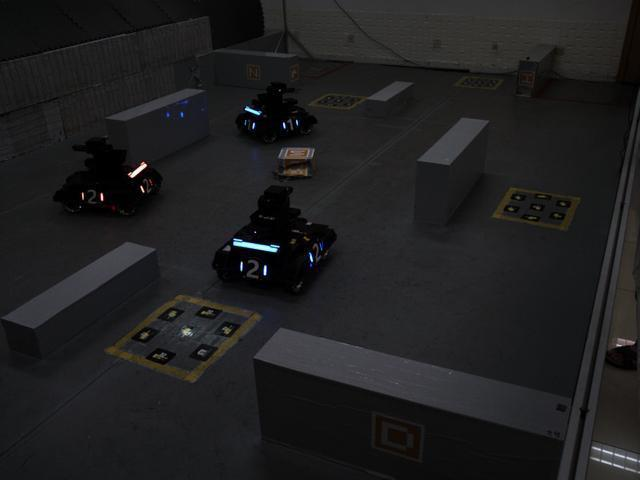armor: (228, 256, 271, 285), (299, 238, 326, 270), (78, 183, 108, 211), (134, 171, 158, 201), (279, 113, 303, 134), (241, 113, 258, 134)
